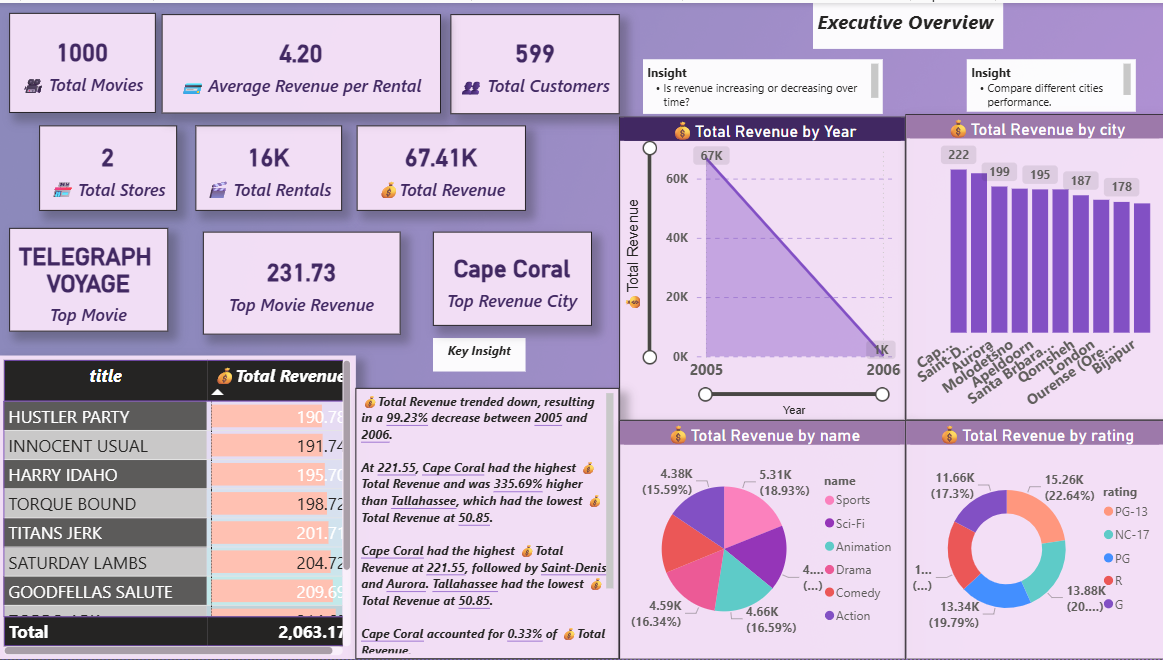

What the dashboard file says about the page in this screenshot:
{"tool":"powerbi","page":{"name":"Executive overview ","canvas":[1280,720],"ordinal":1},"visuals":[{"type":"textbox","box":[894.7,0,208.6,50.8],"z":0},{"type":"card","fields":{"Values":["Table.🎥 Total Movies"]},"box":[12.3,11,160.5,109.8],"z":1000},{"type":"card","fields":{"Values":["Table.🎬 Total Rentals"]},"box":[216.8,134.5,160.5,93.3],"z":2000},{"type":"card","fields":{"Values":["Table.🏪 Total Stores"]},"box":[45.3,134.5,150.9,93.3],"z":3000},{"type":"card","fields":{"Values":["Table.👥 Total Customers"]},"box":[496.7,12.3,185.2,109.8],"z":4000},{"type":"card","fields":{"Values":["Table.💰Total Revenue"]},"box":[393.8,134.5,185.2,93.3],"z":5000},{"type":"card","fields":{"Values":["Table.💳 Average Revenue per Rental"]},"box":[179.8,12.3,306,108.4],"z":6000},{"type":"lineChart","fields":{"Y":["Table.💰Total Revenue"],"Category":["payment.payment_date.Variation.Date Hierarchy.Year","payment.payment_date.Variation.Date Hierarchy.Month","payment.payment_date.Variation.Date Hierarchy.Day"]},"box":[682,124.9,314.2,333.4],"z":7000},{"type":"tableEx","fields":{"Values":["film.title","Table.💰Total Revenue"]},"box":[0,387,392.5,333.4],"z":8000},{"type":"textbox","box":[708.1,61.7,263.5,60.4],"z":9000},{"type":"clusteredColumnChart","fields":{"Category":["city.city"],"Y":["Table.💰Total Revenue"]},"box":[996.2,122.1,284,336.2],"z":10000},{"type":"textbox","box":[1063.5,61.7,185.2,57.6],"z":11000},{"type":"textbox","box":[392.5,422.6,289.5,297.8],"z":12000},{"type":"textbox","box":[477.5,367.8,101.5,37],"z":13000},{"type":"pieChart","fields":{"Category":["category.name"],"Y":["Table.💰Total Revenue"]},"box":[682,458,314,262],"z":14000},{"type":"donutChart","fields":{"Category":["film.rating"],"Y":["Table.💰Total Revenue"]},"box":[996,458,284,262],"z":15000},{"type":"card","fields":{"Values":["Table.Top Movie"]},"box":[12.3,247,174.3,113.9],"z":16000},{"type":"card","fields":{"Values":["Table.Top Movie Revenue"]},"box":[225,251.1,216.8,112.5],"z":17000},{"type":"card","fields":{"Values":["Table.Top Revenue City"]},"box":[477.5,251.1,174.3,102.9],"z":18000}]}

Visuals, with their boxes in screenshot pixels (x1, y1, x2, y2), scaled from the page's 1280x720 canvas onto the 1163x660 screenshot:
textbox: BBox(813, 0, 1002, 47)
card - Table.🎥 Total Movies: BBox(11, 10, 157, 111)
card - Table.🎬 Total Rentals: BBox(197, 123, 343, 209)
card - Table.🏪 Total Stores: BBox(41, 123, 178, 209)
card - Table.👥 Total Customers: BBox(451, 11, 620, 112)
card - Table.💰Total Revenue: BBox(358, 123, 526, 209)
card - Table.💳 Average Revenue per Rental: BBox(163, 11, 441, 111)
lineChart - Table.💰Total Revenue x payment.payment_date.Variation.Date Hierarchy.Year: BBox(620, 114, 905, 420)
tableEx - film.title x Table.💰Total Revenue: BBox(0, 355, 357, 659)
textbox: BBox(643, 57, 883, 112)
clusteredColumnChart - city.city x Table.💰Total Revenue: BBox(905, 112, 1162, 420)
textbox: BBox(966, 57, 1135, 109)
textbox: BBox(357, 387, 620, 659)
textbox: BBox(434, 337, 526, 371)
pieChart - category.name x Table.💰Total Revenue: BBox(620, 420, 905, 659)
donutChart - film.rating x Table.💰Total Revenue: BBox(905, 420, 1162, 659)
card - Table.Top Movie: BBox(11, 226, 170, 331)
card - Table.Top Movie Revenue: BBox(204, 230, 401, 333)
card - Table.Top Revenue City: BBox(434, 230, 592, 324)
